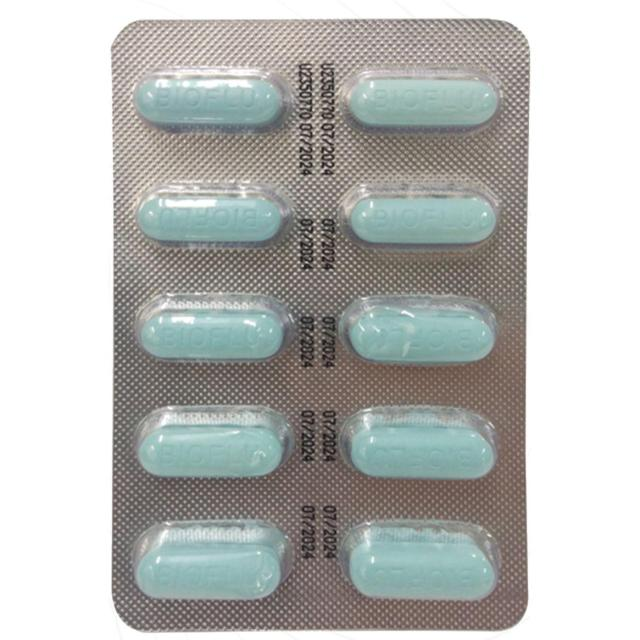blister: (106, 11, 532, 634)
